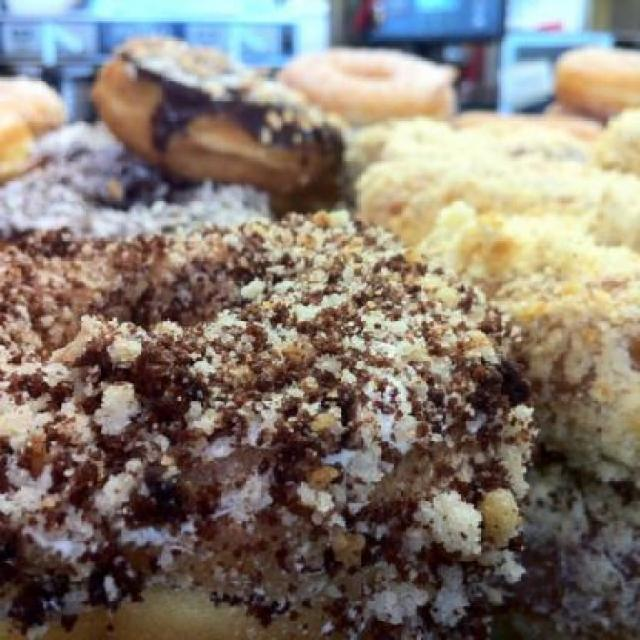Donuts: (6, 1, 640, 620)
